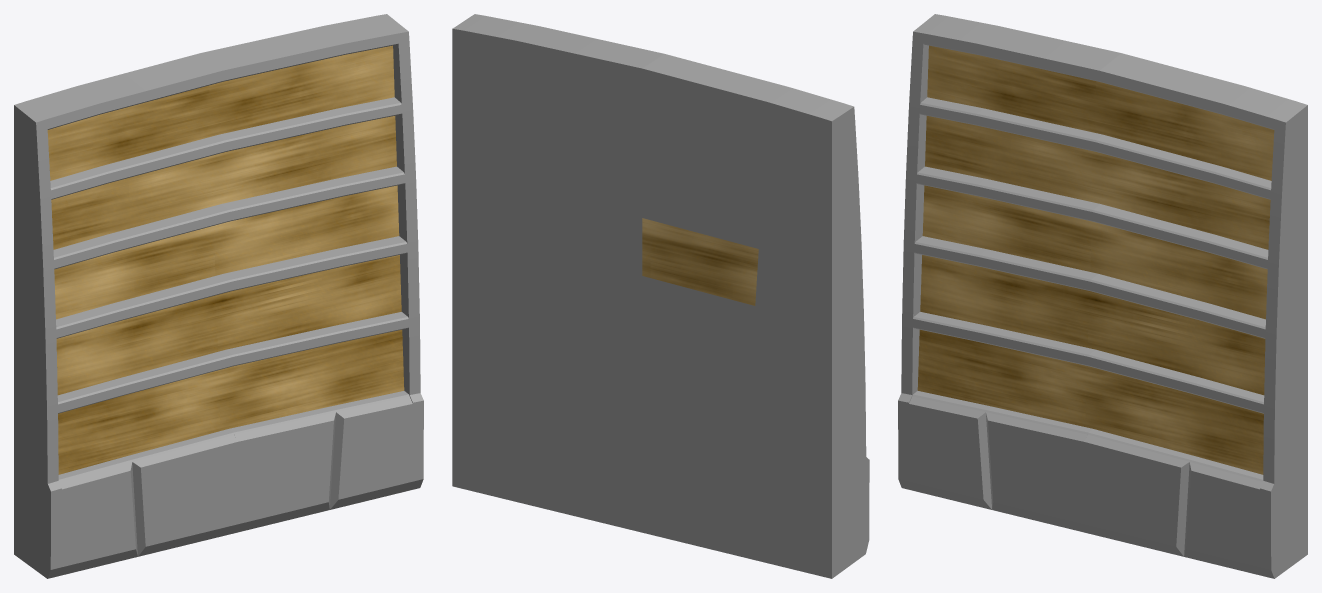
Rendered from Library_BookShelf.fbx.
3 views of the same model, side by side, from view 1: azimuth 30°, elevation 25°; view 2: azimuth 150°, elevation 25°; view 3: azimuth 330°, elevation 25° (orthographic).
Parts seen in each view (by area): view 1: BookShelf:pCube3; view 2: BookShelf:pCube3; view 3: BookShelf:pCube3.
Part boxes in pixels (<box>): BookShelf:pCube3: <box>14,14,423,578</box>; BookShelf:pCube3: <box>452,14,869,578</box>; BookShelf:pCube3: <box>898,14,1307,578</box>.
Size of the model in its own units: 340 by 397 by 58.31.
